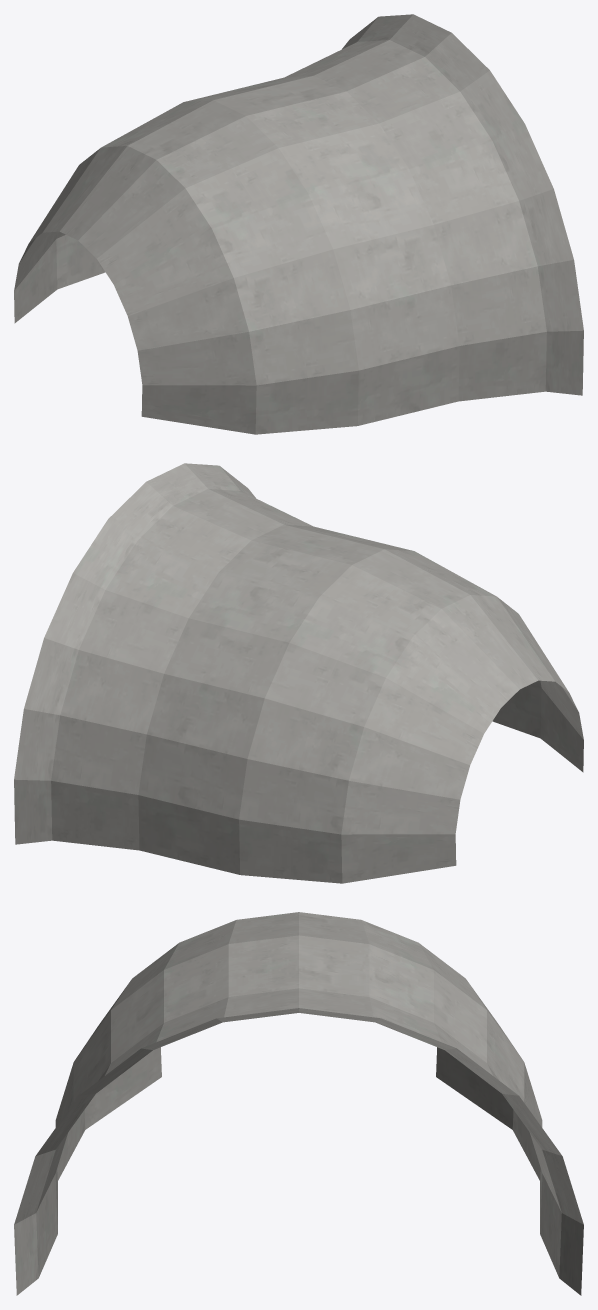
The model's file is eq_future_1_shoulder.glb.
3 views of the same model, one above another, from view 1: azimuth 30°, elevation 25°; view 2: azimuth 150°, elevation 25°; view 3: azimuth 270°, elevation 25° (orthographic). The views are drawn at different scales.
Visible parts, largest first — view 1: eq_future_1_shoulder; view 2: eq_future_1_shoulder; view 3: eq_future_1_shoulder.
Boxes of the visible parts, bbox=[...] form: eq_future_1_shoulder: bbox=[14, 14, 583, 434]; eq_future_1_shoulder: bbox=[14, 463, 583, 883]; eq_future_1_shoulder: bbox=[14, 912, 583, 1295].
Bounding box in the file's own units: 0.167 × 0.1141 × 0.2047.
Materials: 1 (1 with a texture image).
